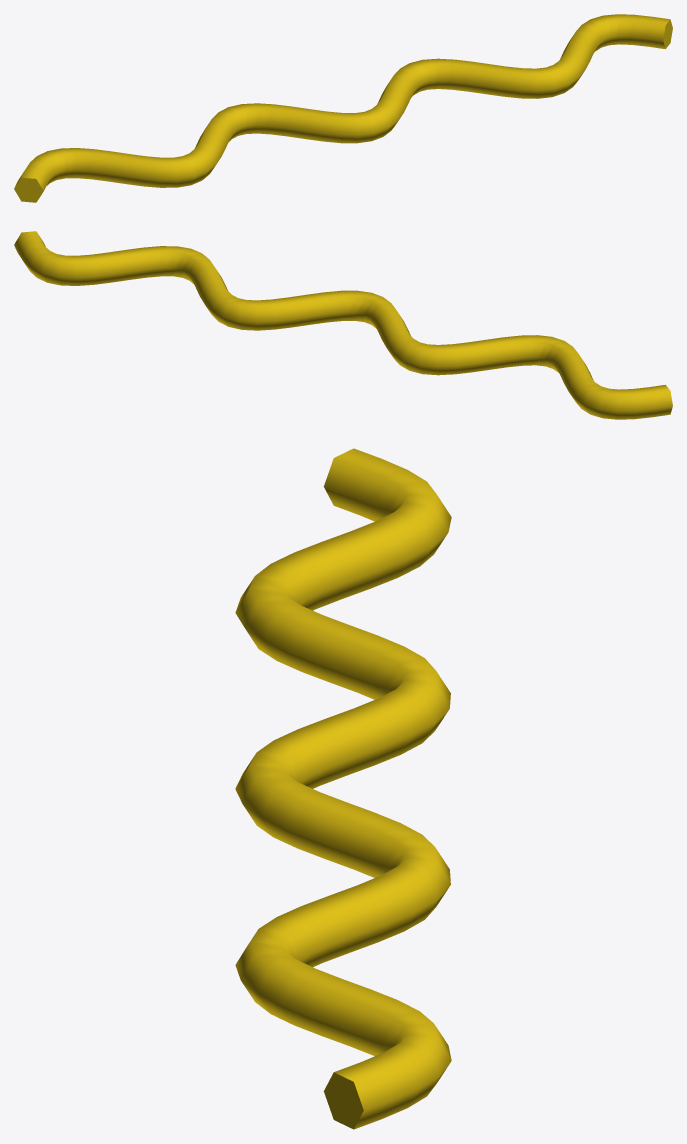
File: mustard.glb
3 views of the same model, one above another, from view 1: azimuth 30°, elevation 25°; view 2: azimuth 150°, elevation 25°; view 3: azimuth 270°, elevation 25° (orthographic). The views are drawn at different scales.
Parts seen in each view (by area): view 1: mustard; view 2: mustard; view 3: mustard.
Boxes of the visible parts, bbox=[...] form: mustard: bbox=[14, 14, 672, 202]; mustard: bbox=[14, 231, 672, 419]; mustard: bbox=[235, 448, 451, 1129].
Bounding box in the file's own units: 0.1753 × 0.00606 × 0.0249.
